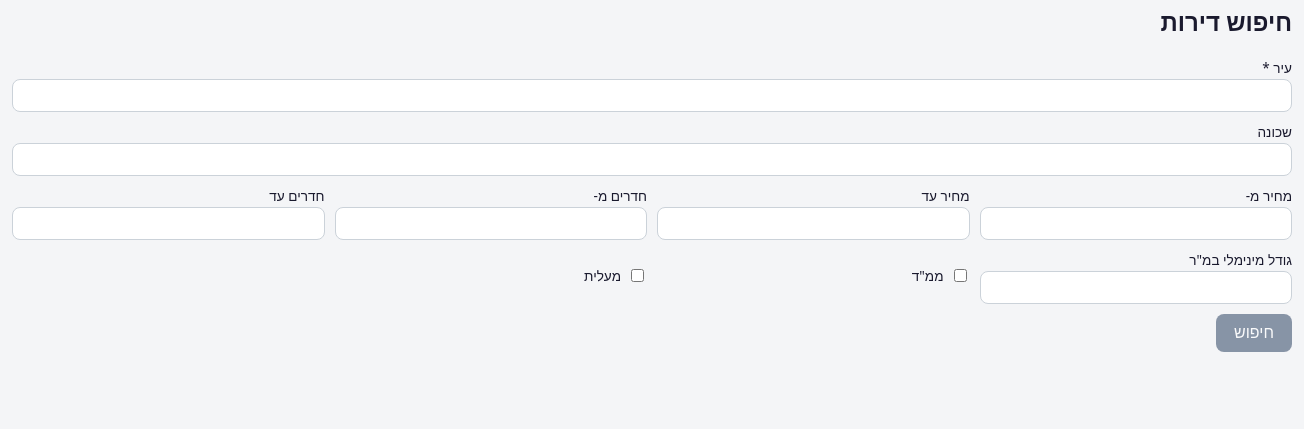
it: searches and shows newly-tracked banner
Type "אילת" into the field labelled "עיר *".
click(652, 95); type("אילת")  # box x1=12 y1=79 x2=1292 y2=112
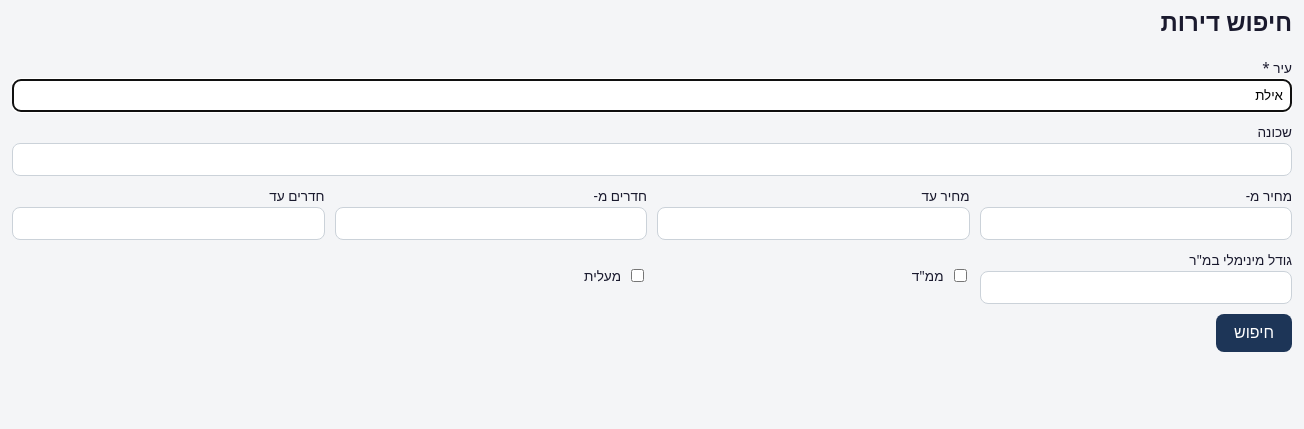
Click the button "חיפוש".
click(1254, 333)  # box x1=1216 y1=314 x2=1292 y2=352
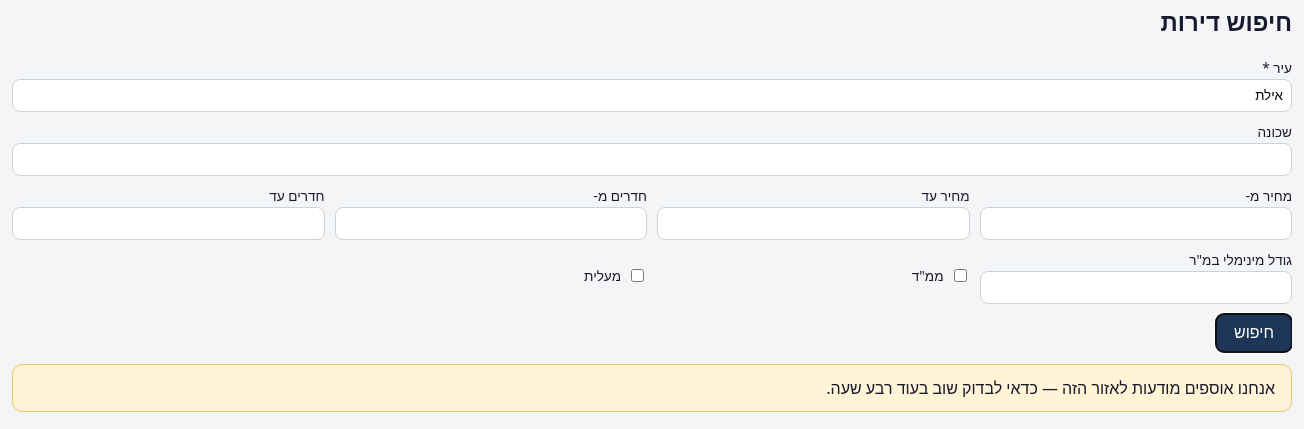
Result: the text "אנחנו אוספים מודעות לאזור הזה — כדאי לבדוק שוב בעוד רבע שעה." is shown at x1=12 y1=364 x2=1292 y2=412
